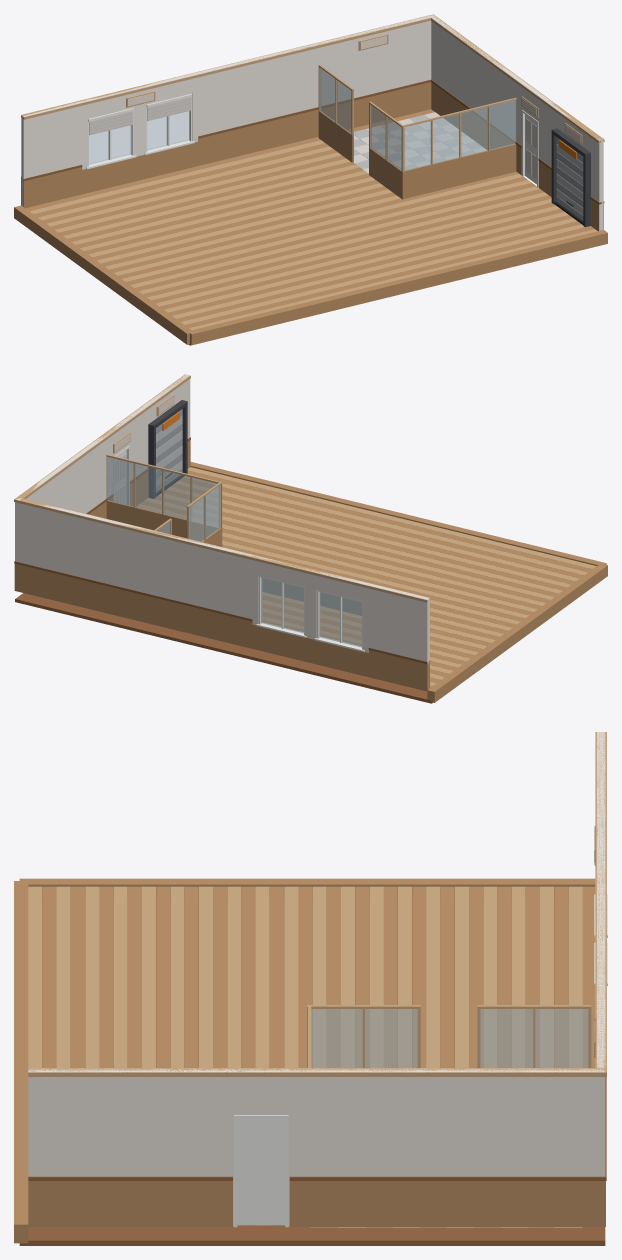
Rendered from office_shell.glb.
The picture shows the model from 3 angles, top to bottom: view 1: azimuth 30°, elevation 25°; view 2: azimuth 150°, elevation 25°; view 3: azimuth 270°, elevation 25°; orthographic projection. The views are drawn at different scales.
Visible parts, largest first — view 1: office_shell, office_shell_glass; view 2: office_shell, office_shell_glass; view 3: office_shell, office_shell_glass.
Boxes of the visible parts, x1,y1,x2,y2 form: office_shell: [14, 14, 607, 345]; office_shell_glass: [89, 68, 515, 170]; office_shell: [14, 374, 607, 703]; office_shell_glass: [106, 457, 361, 647]; office_shell: [14, 732, 607, 1245]; office_shell_glass: [311, 1009, 588, 1067].
Bounding box in the file's own units: 14.42 × 3.37 × 10.44.
3 materials, 1 textured.
